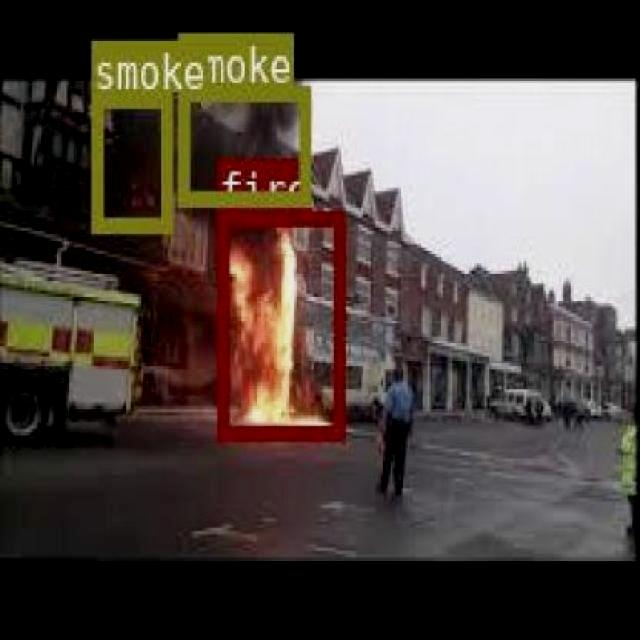fire: (216, 209, 342, 437)
smoke: (176, 83, 310, 203), (89, 90, 169, 230)
